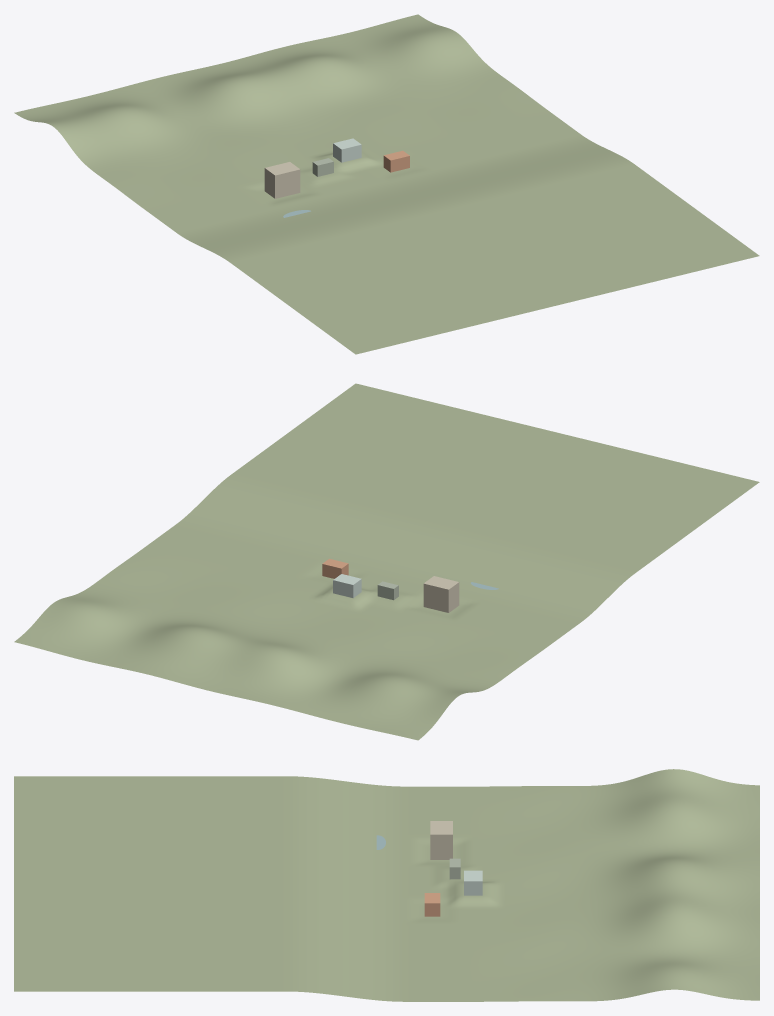
The model's file is garden-space-study.glb.
3 renders of one model, top to bottom at view 1: azimuth 30°, elevation 25°; view 2: azimuth 150°, elevation 25°; view 3: azimuth 270°, elevation 25°, orthographic. The views are drawn at different scales.
Visible parts, largest first — view 1: terrain_elevation_STUDY, house_ENVELOPE_NOT_ART; view 2: terrain_elevation_STUDY, house_ENVELOPE_NOT_ART; view 3: terrain_elevation_STUDY, house_ENVELOPE_NOT_ART, greenhouse_ENVELOPE_NOT_ART, stall_ENVELOPE_NOT_ART.
Part boxes in pixels (x1=…): terrain_elevation_STUDY: x1=14, y1=14, x2=759, y2=354; house_ENVELOPE_NOT_ART: x1=264, y1=162, x2=300, y2=198; terrain_elevation_STUDY: x1=14, y1=383, x2=759, y2=740; house_ENVELOPE_NOT_ART: x1=423, y1=576, x2=459, y2=612; terrain_elevation_STUDY: x1=14, y1=769, x2=759, y2=1001; house_ENVELOPE_NOT_ART: x1=430, y1=821, x2=452, y2=859; greenhouse_ENVELOPE_NOT_ART: x1=464, y1=870, x2=482, y2=895; stall_ENVELOPE_NOT_ART: x1=424, y1=893, x2=440, y2=916.
Size of the model in its own units: 112 by 6.2 by 164.
